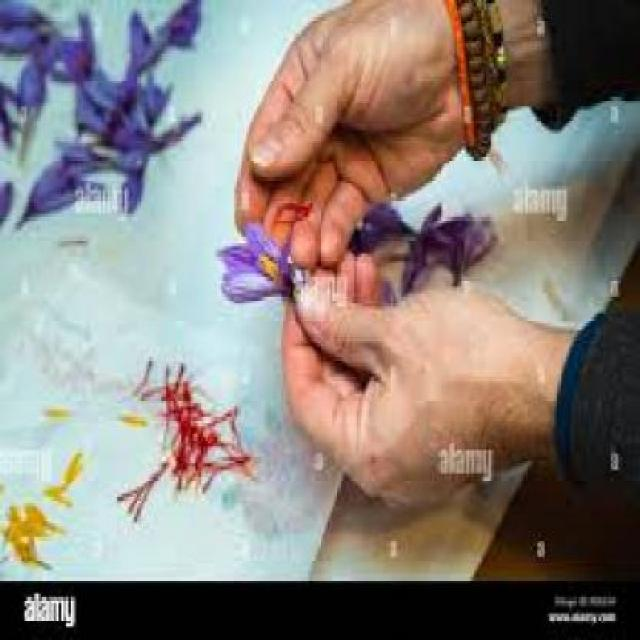Flower: (216, 221, 296, 308), (19, 160, 90, 231)
